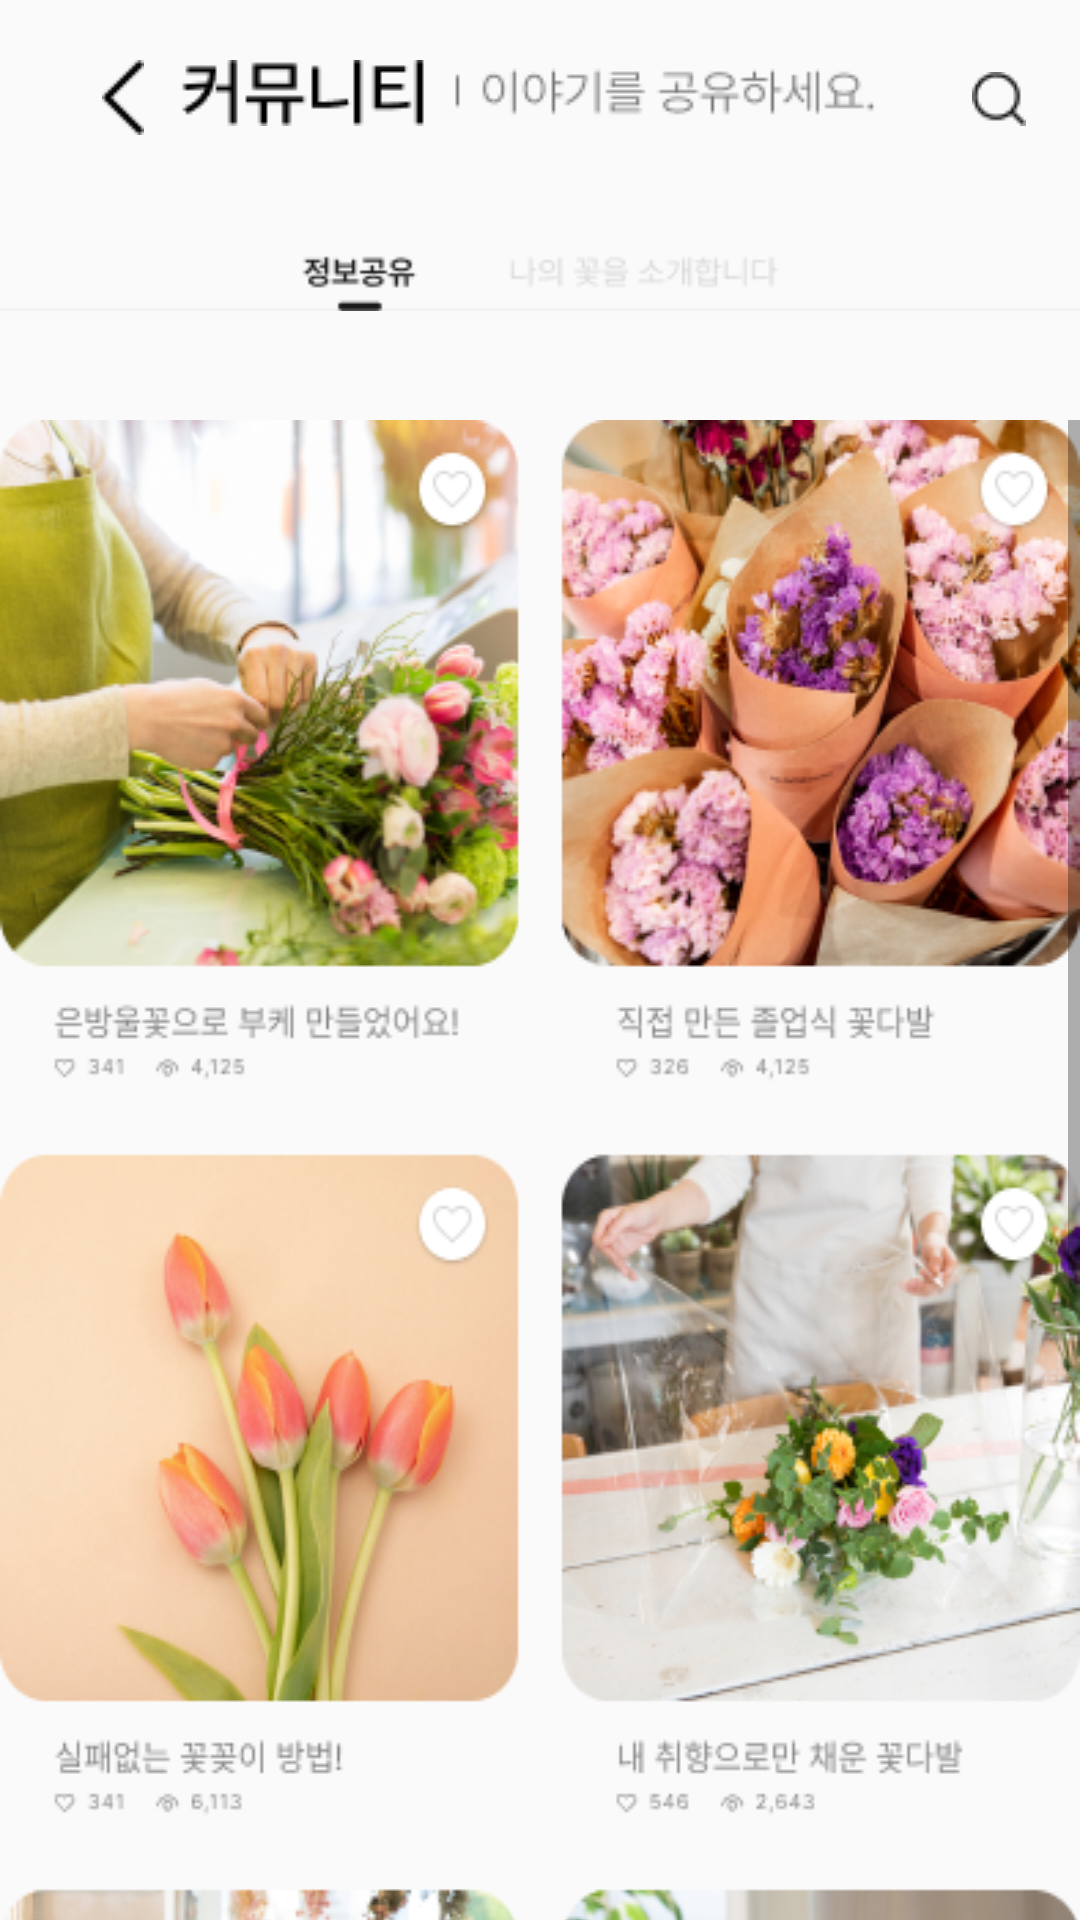

Where to tap for icons on this 1080w x 1920h app screen, as point (x, y):
search: point (999, 99)
